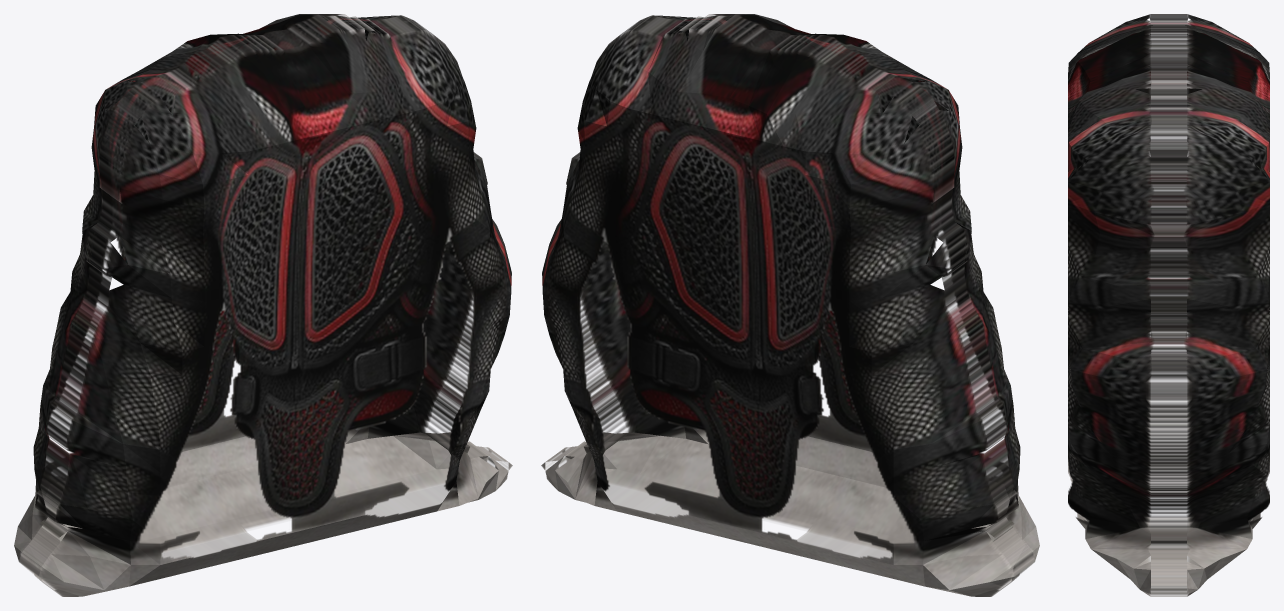
Rendered from dainese-vantage-body-armor-178.glb.
3 views of the same model, side by side, from view 1: azimuth 30°, elevation 25°; view 2: azimuth 150°, elevation 25°; view 3: azimuth 270°, elevation 25° (orthographic). The views are drawn at different scales.
Visible parts, largest first — view 1: world; view 2: world; view 3: world.
Part boxes in pixels (x1,y1,x2,y2): world: (14, 14, 512, 596); world: (541, 14, 1039, 596); world: (1068, 14, 1269, 596).
Bounding box in the file's own units: 0.9908 × 1 × 0.4.
1 material, 1 textured.
